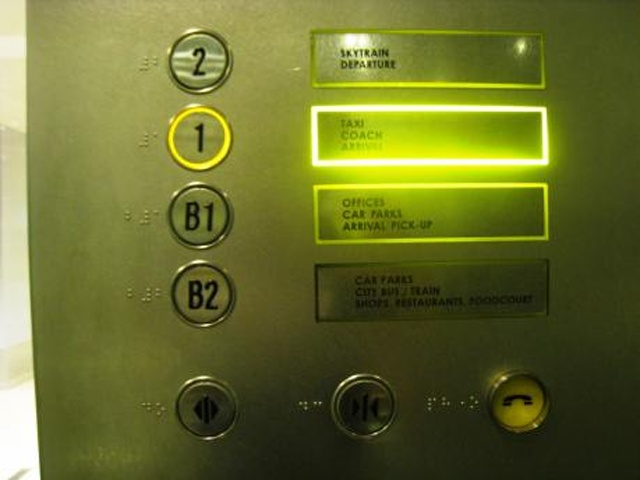1: (164, 100, 236, 175)
2: (162, 24, 235, 98)
B1: (162, 180, 239, 256)
B2: (166, 258, 240, 332)
call: (481, 364, 555, 438)
close: (329, 370, 402, 442)
open: (171, 374, 243, 446)
